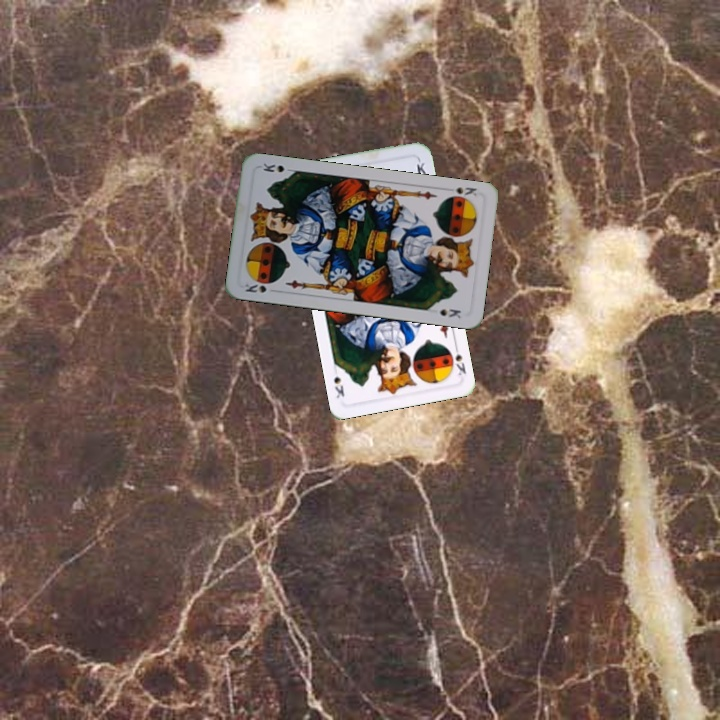SK: (450, 340, 469, 378), (241, 279, 280, 295), (451, 183, 481, 201)
